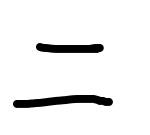eqv: (13, 43, 113, 108)
